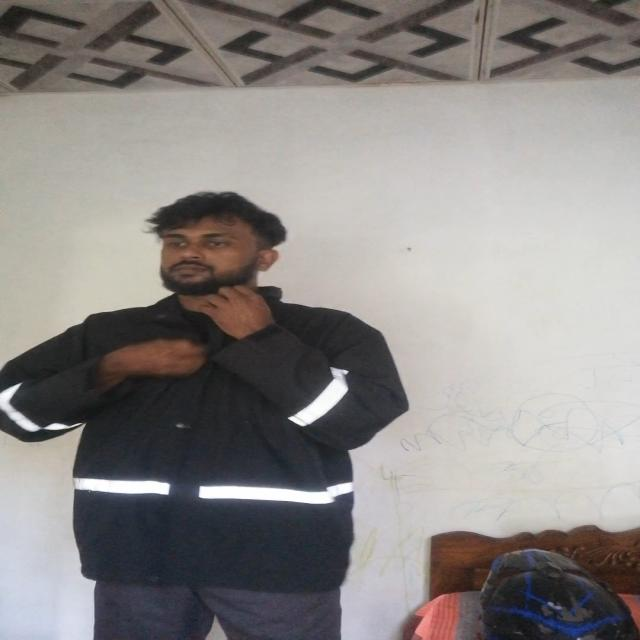Jacket_Wearer: (6, 293, 443, 576)
Person: (6, 192, 381, 640)
